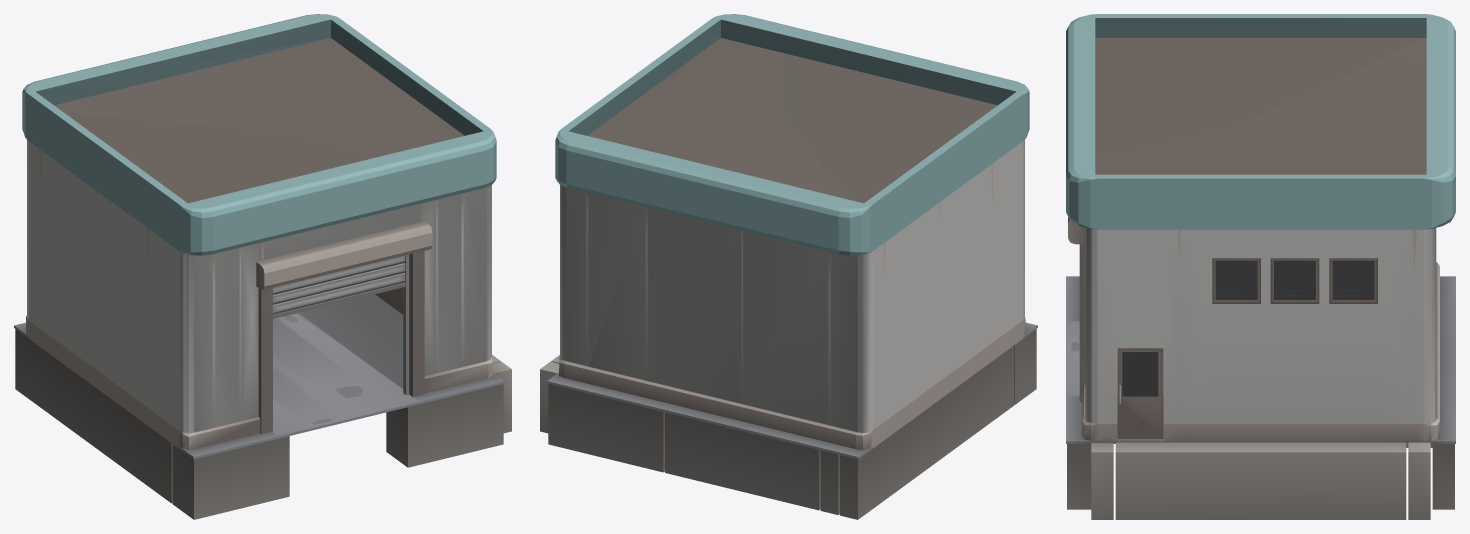
File: garage.glb
3 views of the same model, side by side, from view 1: azimuth 30°, elevation 25°; view 2: azimuth 150°, elevation 25°; view 3: azimuth 270°, elevation 25° (orthographic). The views are drawn at different scales.
Parts seen in each view (by area): view 1: garage.001; view 2: garage.001; view 3: garage.001.
Part boxes in pixels (left/top/right/bottom): garage.001: left=14, top=14, right=511, bottom=519; garage.001: left=540, top=14, right=1037, bottom=519; garage.001: left=1066, top=14, right=1455, bottom=519.
Size of the model in its own units: 8.48 by 7.5 by 8.
